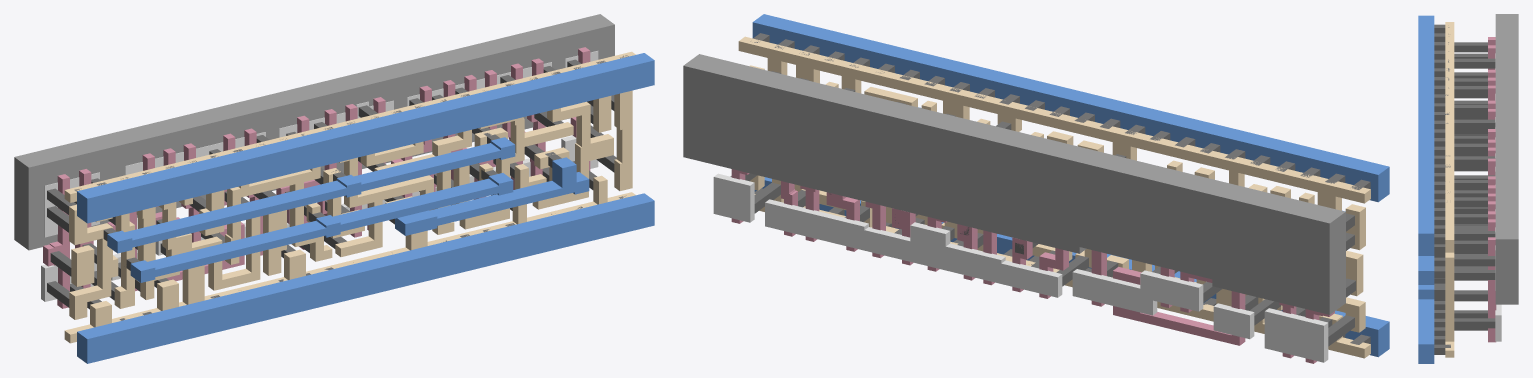
The model's file is sky130_fd_sc_hd__sdfrtn_1.gds.gltf.
The picture shows the model from 3 angles, left to right: view 1: azimuth 30°, elevation 25°; view 2: azimuth 150°, elevation 25°; view 3: azimuth 270°, elevation 25°; orthographic projection. The views are drawn at different scales.
Parts seen in each view (by area): view 1: sky130_fd_sc_hd__sdfrtn_1_met1, sky130_fd_sc_hd__sdfrtn_1_li1, sky130_fd_sc_hd__sdfrtn_1_nwell, sky130_fd_sc_hd__sdfrtn_1_poly, sky130_fd_sc_hd__sdfrtn_1_licon, sky130_fd_sc_hd__sdfrtn_1_diff, sky130_fd_sc_hd__sdfrtn_1_mcon; view 2: sky130_fd_sc_hd__sdfrtn_1_nwell, sky130_fd_sc_hd__sdfrtn_1_li1, sky130_fd_sc_hd__sdfrtn_1_diff, sky130_fd_sc_hd__sdfrtn_1_met1, sky130_fd_sc_hd__sdfrtn_1_poly, sky130_fd_sc_hd__sdfrtn_1_mcon, sky130_fd_sc_hd__sdfrtn_1_licon; view 3: sky130_fd_sc_hd__sdfrtn_1_licon, sky130_fd_sc_hd__sdfrtn_1_nwell, sky130_fd_sc_hd__sdfrtn_1_met1, sky130_fd_sc_hd__sdfrtn_1_mcon, sky130_fd_sc_hd__sdfrtn_1_li1, sky130_fd_sc_hd__sdfrtn_1_poly, sky130_fd_sc_hd__sdfrtn_1_diff.
Boxes of the visible parts, <box> form: sky130_fd_sc_hd__sdfrtn_1_met1: <box>77,53,654,363</box>; sky130_fd_sc_hd__sdfrtn_1_li1: <box>64,51,635,343</box>; sky130_fd_sc_hd__sdfrtn_1_nwell: <box>14,14,614,250</box>; sky130_fd_sc_hd__sdfrtn_1_poly: <box>43,47,590,308</box>; sky130_fd_sc_hd__sdfrtn_1_licon: <box>47,59,616,309</box>; sky130_fd_sc_hd__sdfrtn_1_diff: <box>41,51,598,301</box>; sky130_fd_sc_hd__sdfrtn_1_mcon: <box>74,55,628,320</box>; sky130_fd_sc_hd__sdfrtn_1_nwell: <box>683,54,1345,314</box>; sky130_fd_sc_hd__sdfrtn_1_li1: <box>738,36,1370,358</box>; sky130_fd_sc_hd__sdfrtn_1_diff: <box>713,173,1328,362</box>; sky130_fd_sc_hd__sdfrtn_1_met1: <box>752,14,1389,357</box>; sky130_fd_sc_hd__sdfrtn_1_poly: <box>731,169,1334,363</box>; sky130_fd_sc_hd__sdfrtn_1_mcon: <box>750,33,1370,344</box>; sky130_fd_sc_hd__sdfrtn_1_licon: <box>730,71,1355,346</box>; sky130_fd_sc_hd__sdfrtn_1_licon: <box>1454,42,1495,330</box>; sky130_fd_sc_hd__sdfrtn_1_nwell: <box>1495,14,1518,304</box>; sky130_fd_sc_hd__sdfrtn_1_met1: <box>1418,15,1434,363</box>; sky130_fd_sc_hd__sdfrtn_1_mcon: <box>1434,24,1450,354</box>; sky130_fd_sc_hd__sdfrtn_1_li1: <box>1445,22,1454,357</box>; sky130_fd_sc_hd__sdfrtn_1_poly: <box>1488,37,1496,342</box>; sky130_fd_sc_hd__sdfrtn_1_diff: <box>1495,53,1501,341</box>.
Size of the model in its own units: 11.88 by 3.2 by 2.24.
